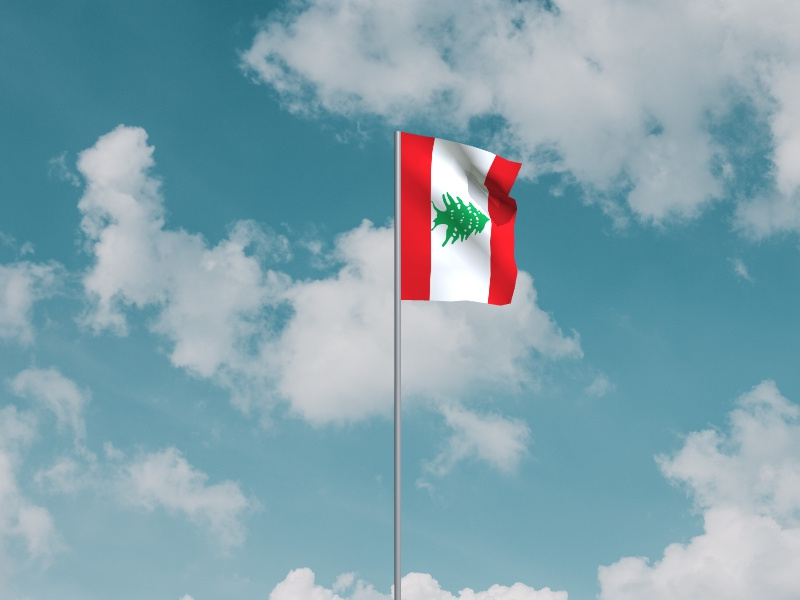lb: (402, 133, 524, 308)
